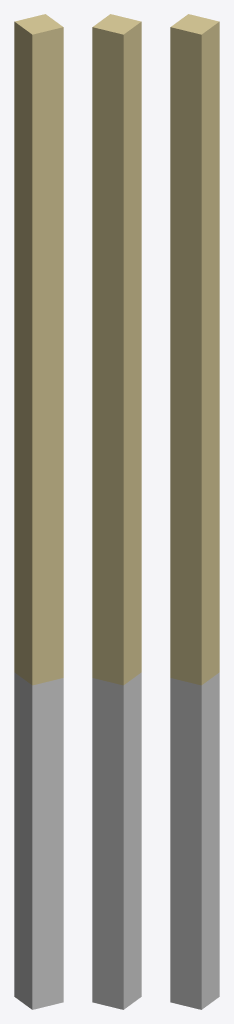
The model's file is Mesh_Wall2Colors_I5.fbx.
3 views of the same model, side by side, from view 1: azimuth 30°, elevation 25°; view 2: azimuth 150°, elevation 25°; view 3: azimuth 330°, elevation 25° (orthographic).
Parts seen in each view (by area): view 1: Mesh_Wall2Colors_I5; view 2: Mesh_Wall2Colors_I5; view 3: Mesh_Wall2Colors_I5.
Part boxes in pixels (<box>): Mesh_Wall2Colors_I5: <box>14,14,63,1009</box>; Mesh_Wall2Colors_I5: <box>92,14,141,1009</box>; Mesh_Wall2Colors_I5: <box>170,14,219,1009</box>.
Bounding box in the file's own units: 0.1 × 3 × 0.1.
